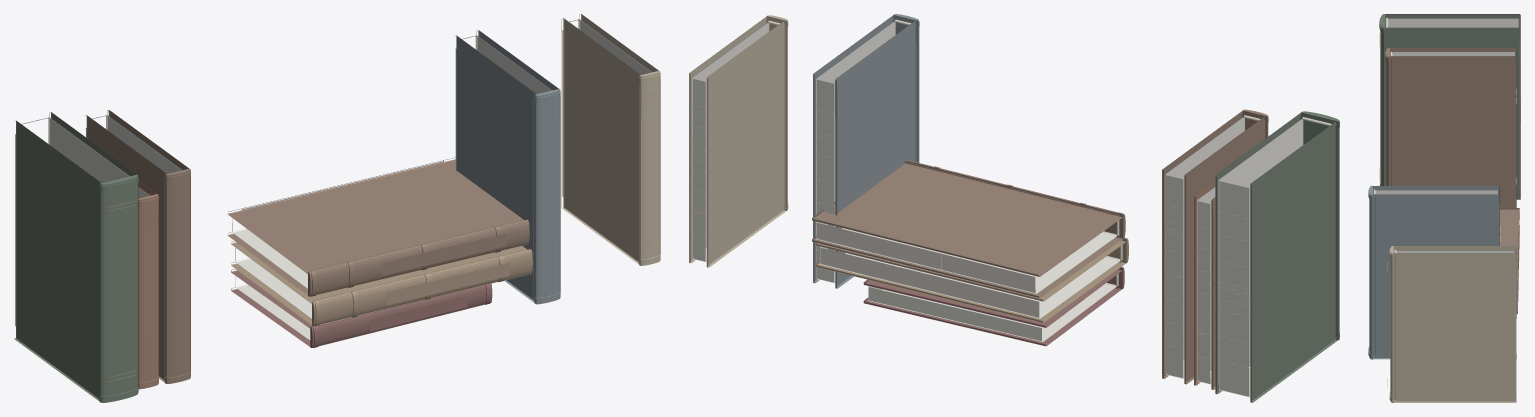
Rendered from X14_LRS1953_BOOKS_S01_bk2.glb.
3 views of the same model, side by side, from view 1: azimuth 30°, elevation 25°; view 2: azimuth 150°, elevation 25°; view 3: azimuth 270°, elevation 25° (orthographic). The views are drawn at different scales.
Visible parts, largest first — view 1: S05_HUMANITIES_A_S05_HUMANITIES_B04_book_05_cover_-1, S05_HUMANITIES_A_S05_HUMANITIES_B09_book_06_cover_-1, S05_HUMANITIES_A_S05_HUMANITIES_B15_book_03_cover_-1, S05_HUMANITIES_A_S05_HUMANITIES_B12_book_01_cover_-1, S05_HUMANITIES_A_S05_HUMANITIES_B04_book_05_spine, S05_HUMANITIES_A_S05_HUMANITIES_B12_book_01_spine, S05_HUMANITIES_A_S05_HUMANITIES_B06_book_01_spine, S05_HUMANITIES_A_S05_HUMANITIES_B09_book_06_spine, S05_HUMANITIES_A_S05_HUMANITIES_B08_book_06_spine, S05_HUMANITIES_A_S05_HUMANITIES_B06_book_01_cover_-1, S05_HUMANITIES_A_S05_HUMANITIES_B15_book_03_spine, S05_HUMANITIES_A_S05_HUMANITIES_B05_book_03_spine (+23 smaller); view 2: S05_HUMANITIES_A_S05_HUMANITIES_B04_book_05_cover_-1, S05_HUMANITIES_A_S05_HUMANITIES_B09_book_06_cover_-1, S05_HUMANITIES_A_S05_HUMANITIES_B15_book_03_cover_-1, S05_HUMANITIES_A_S05_HUMANITIES_B12_book_01_cover_-1, S05_HUMANITIES_A_S05_HUMANITIES_B04_book_05_pages, S05_HUMANITIES_A_S05_HUMANITIES_B09_book_06_pages, S05_HUMANITIES_A_S05_HUMANITIES_B08_book_06_pages, S05_HUMANITIES_A_S05_HUMANITIES_B06_book_01_pages, S05_HUMANITIES_A_S05_HUMANITIES_B12_book_01_pages, S05_HUMANITIES_A_S05_HUMANITIES_B06_book_01_cover_-1, S05_HUMANITIES_A_S05_HUMANITIES_B07_book_03_pages, S05_HUMANITIES_A_S05_HUMANITIES_B15_book_03_pages (+16 smaller); view 3: S05_HUMANITIES_A_S05_HUMANITIES_B15_book_03_cover_1, S05_HUMANITIES_A_S05_HUMANITIES_B06_book_01_cover_1, S05_HUMANITIES_A_S05_HUMANITIES_B12_book_01_cover_1, S05_HUMANITIES_A_S05_HUMANITIES_B06_book_01_TITLE_SURFACE_FA, S05_HUMANITIES_A_S05_HUMANITIES_B15_book_03_TITLE_SURFACE_FA, S05_HUMANITIES_A_S05_HUMANITIES_B04_book_05_cover_1, S05_HUMANITIES_A_S05_HUMANITIES_B04_book_05_pages, S05_HUMANITIES_A_S05_HUMANITIES_B12_book_01_TITLE_SURFACE_FA, S05_HUMANITIES_A_S05_HUMANITIES_B04_book_05_spine, S05_HUMANITIES_A_S05_HUMANITIES_B09_book_06_cover_-1, S05_HUMANITIES_A_S05_HUMANITIES_B04_book_05_cover_-1, S05_HUMANITIES_A_S05_HUMANITIES_B12_book_01_spine (+15 smaller).
Boxes of the visible parts, x1=… form: S05_HUMANITIES_A_S05_HUMANITIES_B04_book_05_cover_-1: x1=14, y1=120, x2=101, y2=401; S05_HUMANITIES_A_S05_HUMANITIES_B09_book_06_cover_-1: x1=227, y1=157, x2=523, y2=273; S05_HUMANITIES_A_S05_HUMANITIES_B15_book_03_cover_-1: x1=561, y1=18, x2=641, y2=264; S05_HUMANITIES_A_S05_HUMANITIES_B12_book_01_cover_-1: x1=456, y1=35, x2=536, y2=302; S05_HUMANITIES_A_S05_HUMANITIES_B04_book_05_spine: x1=99, y1=174, x2=137, y2=402; S05_HUMANITIES_A_S05_HUMANITIES_B12_book_01_spine: x1=534, y1=89, x2=560, y2=304; S05_HUMANITIES_A_S05_HUMANITIES_B06_book_01_spine: x1=165, y1=168, x2=190, y2=383; S05_HUMANITIES_A_S05_HUMANITIES_B09_book_06_spine: x1=308, y1=219, x2=529, y2=296; S05_HUMANITIES_A_S05_HUMANITIES_B08_book_06_spine: x1=312, y1=249, x2=532, y2=326; S05_HUMANITIES_A_S05_HUMANITIES_B06_book_01_cover_-1: x1=85, y1=115, x2=166, y2=382; S05_HUMANITIES_A_S05_HUMANITIES_B15_book_03_spine: x1=639, y1=70, x2=660, y2=265; S05_HUMANITIES_A_S05_HUMANITIES_B05_book_03_spine: x1=138, y1=194, x2=158, y2=389; S05_HUMANITIES_A_S05_HUMANITIES_B04_book_05_cover_-1: x1=1250, y1=121, x2=1337, y2=402; S05_HUMANITIES_A_S05_HUMANITIES_B09_book_06_cover_-1: x1=812, y1=163, x2=1122, y2=276; S05_HUMANITIES_A_S05_HUMANITIES_B15_book_03_cover_-1: x1=706, y1=21, x2=786, y2=267; S05_HUMANITIES_A_S05_HUMANITIES_B12_book_01_cover_-1: x1=835, y1=21, x2=919, y2=288; S05_HUMANITIES_A_S05_HUMANITIES_B04_book_05_pages: x1=1218, y1=118, x2=1329, y2=397; S05_HUMANITIES_A_S05_HUMANITIES_B09_book_06_pages: x1=816, y1=221, x2=1117, y2=293; S05_HUMANITIES_A_S05_HUMANITIES_B08_book_06_pages: x1=820, y1=246, x2=1120, y2=318; S05_HUMANITIES_A_S05_HUMANITIES_B06_book_01_pages: x1=1165, y1=117, x2=1258, y2=378; S05_HUMANITIES_A_S05_HUMANITIES_B12_book_01_pages: x1=816, y1=21, x2=908, y2=283; S05_HUMANITIES_A_S05_HUMANITIES_B06_book_01_cover_-1: x1=1184, y1=116, x2=1264, y2=384; S05_HUMANITIES_A_S05_HUMANITIES_B07_book_03_pages: x1=868, y1=275, x2=1116, y2=341; S05_HUMANITIES_A_S05_HUMANITIES_B15_book_03_pages: x1=692, y1=22, x2=778, y2=262; S05_HUMANITIES_A_S05_HUMANITIES_B15_book_03_cover_1: x1=1393, y1=253, x2=1516, y2=402; S05_HUMANITIES_A_S05_HUMANITIES_B06_book_01_cover_1: x1=1390, y1=56, x2=1516, y2=207; S05_HUMANITIES_A_S05_HUMANITIES_B12_book_01_cover_1: x1=1373, y1=194, x2=1499, y2=359; S05_HUMANITIES_A_S05_HUMANITIES_B06_book_01_TITLE_SURFACE_FA: x1=1411, y1=93, x2=1490, y2=159; S05_HUMANITIES_A_S05_HUMANITIES_B15_book_03_TITLE_SURFACE_FA: x1=1413, y1=287, x2=1490, y2=346; S05_HUMANITIES_A_S05_HUMANITIES_B04_book_05_cover_1: x1=1385, y1=27, x2=1520, y2=199; S05_HUMANITIES_A_S05_HUMANITIES_B04_book_05_pages: x1=1388, y1=18, x2=1519, y2=27; S05_HUMANITIES_A_S05_HUMANITIES_B12_book_01_TITLE_SURFACE_FA: x1=1394, y1=231, x2=1473, y2=245; S05_HUMANITIES_A_S05_HUMANITIES_B04_book_05_spine: x1=1380, y1=14, x2=1385, y2=185; S05_HUMANITIES_A_S05_HUMANITIES_B09_book_06_cover_-1: x1=1500, y1=208, x2=1519, y2=297; S05_HUMANITIES_A_S05_HUMANITIES_B04_book_05_cover_-1: x1=1385, y1=14, x2=1520, y2=27; S05_HUMANITIES_A_S05_HUMANITIES_B12_book_01_spine: x1=1369, y1=185, x2=1372, y2=359.
Bounding box in the file's own units: 0.6189 × 0.228 × 0.1838.
